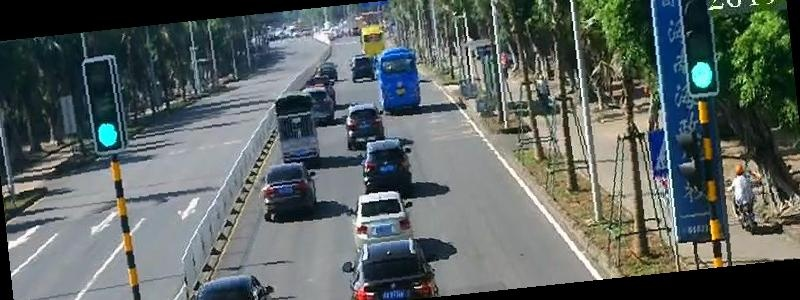green: (689, 60, 717, 89), (95, 121, 120, 148)
